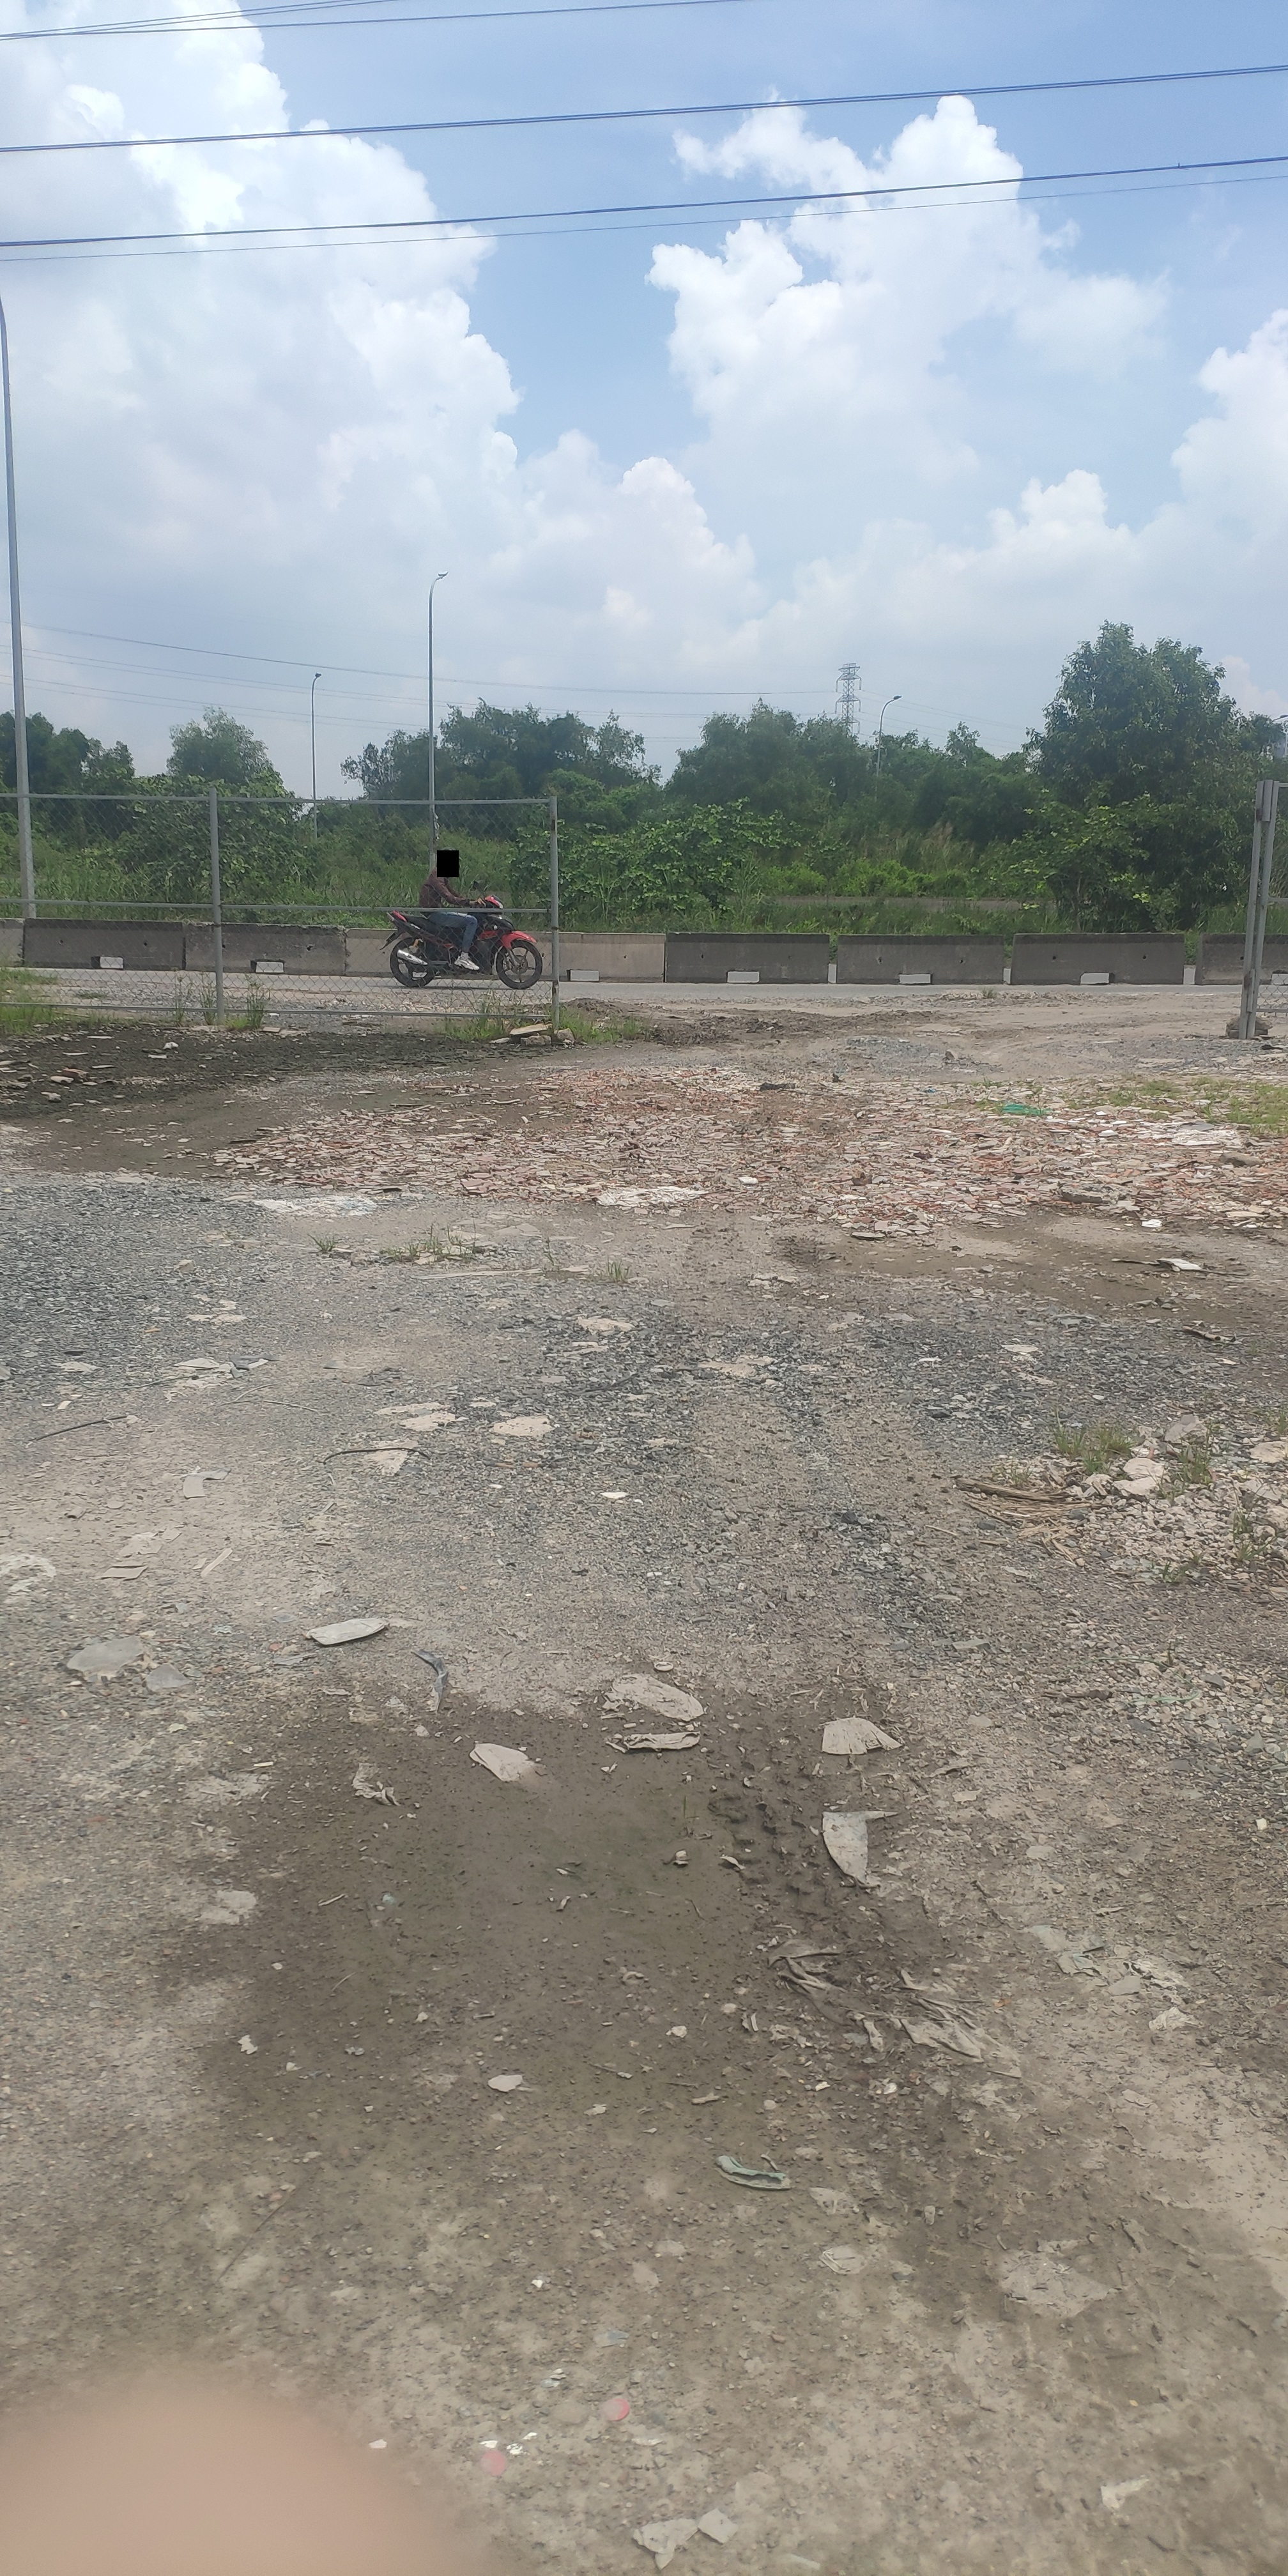hole: (197, 1643, 1015, 2131), (1042, 1196, 1288, 1288)
